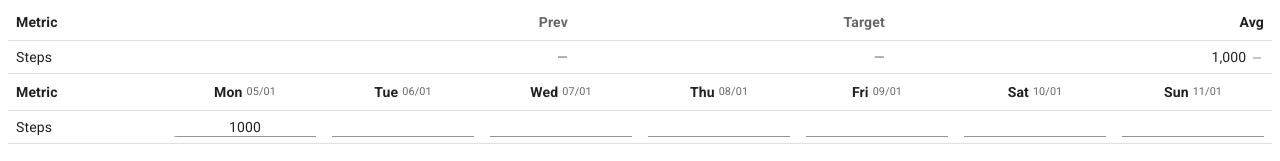
Scenario: MetricsDailyBreakdown › updates the summary table immediately when an editable metric changes
The width and height of the screenshot is (1280, 161).
Expected: the text "1,000" is shown, [893,40,1272,74]
Expected: the text "Steps" is shown, [8,110,1272,144]
Replace the text in the 1st number field with "1234" at {"x": 245, "y": 127}, box [174,117,316,137]
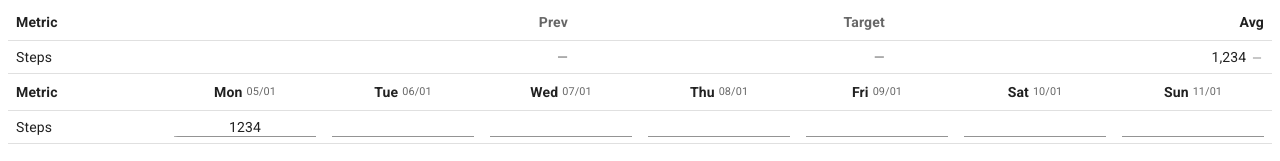
Result: the text "1,234" is shown at [893,40,1272,74]
